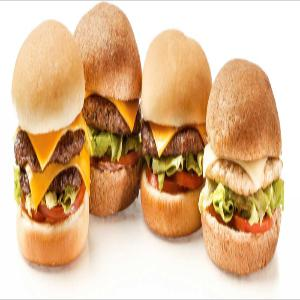cheeseburger_475cal: (12, 21, 94, 272), (209, 52, 285, 282), (144, 26, 206, 246)
